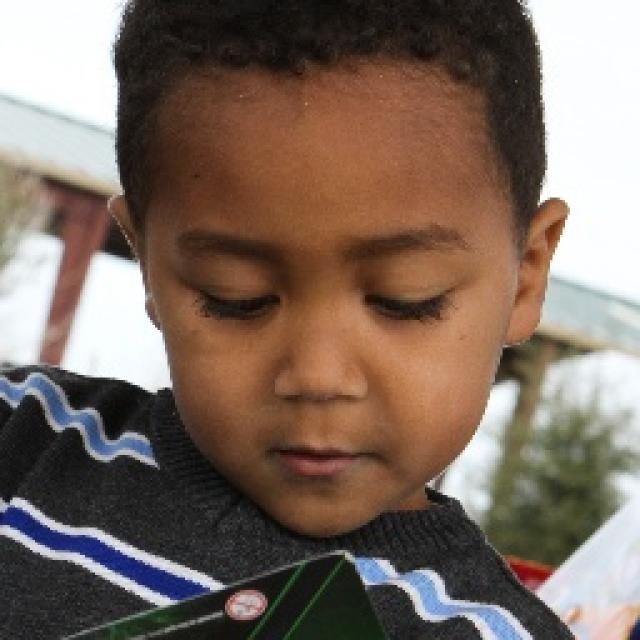earlobe: (504, 195, 570, 345), (107, 189, 162, 333)
